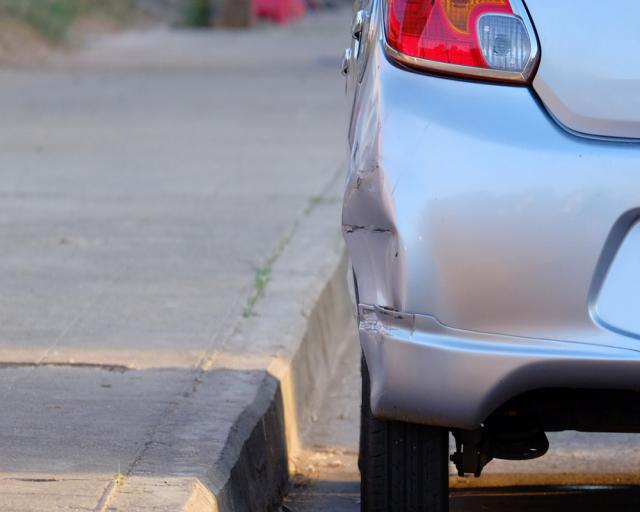dent: (340, 144, 405, 312)
